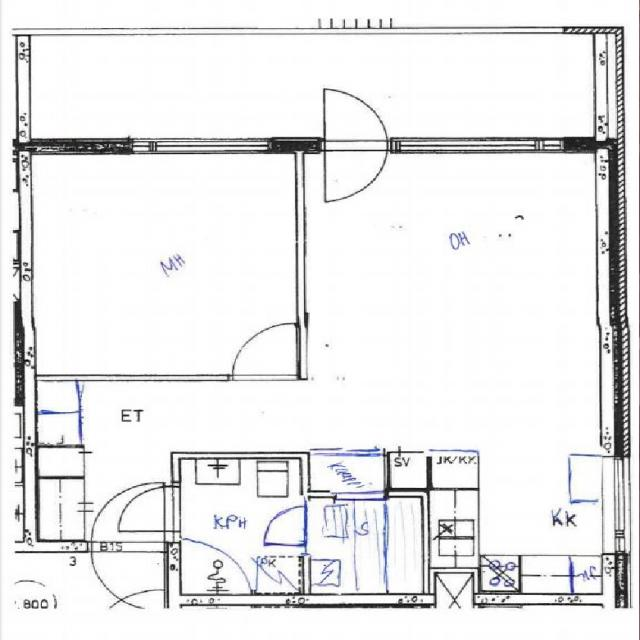door: (91, 541, 164, 612), (91, 481, 164, 552), (325, 85, 388, 153), (325, 137, 388, 205), (232, 320, 297, 380), (119, 487, 179, 531), (256, 506, 310, 546)
